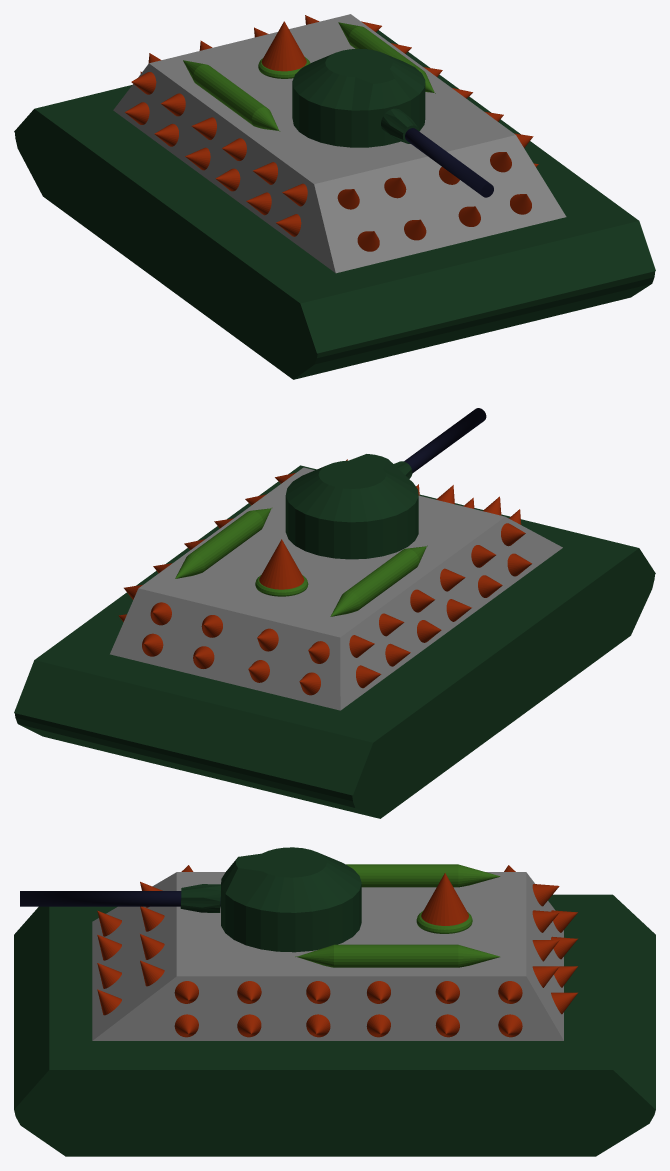
File: tank1.fbx
3 views of the same model, one above another, from view 1: azimuth 30°, elevation 25°; view 2: azimuth 150°, elevation 25°; view 3: azimuth 270°, elevation 25° (orthographic). The views are drawn at different scales.
Visible parts, largest first — view 1: Cube.001, Cube.002, Cube.003, Cylinder, Cube.000, Cube.004, Cylinder.001, Canon, Cone, Cylinder.002, Cube.005; view 2: Cube.001, Cube.002, Cube.003, Cylinder, Cube.000, Cube.016, Cylinder.001, Cylinder.002, Canon, Cone, Cube.005, Cube.004; view 3: Cube.001, Cube.002, Cube.003, Cylinder, Cube.005, Cylinder.002, Cylinder.001, Cube.016, Cube.004, Canon, Cone, Torus.
Boxes of the visible parts, box(x1,y1,x2,y2) form: Cube.001: box(14, 30, 655, 353); Cube.002: box(113, 14, 566, 273); Cube.003: box(14, 132, 655, 379); Cylinder: box(292, 48, 425, 147); Cube.000: box(125, 72, 307, 236); Cube.004: box(337, 152, 531, 251); Cylinder.001: box(183, 60, 280, 131); Canon: box(405, 128, 493, 197); Cone: box(261, 21, 306, 71); Cylinder.002: box(338, 22, 435, 93); Cube.005: box(361, 21, 538, 167); Cube.001: box(14, 465, 655, 795); Cube.002: box(110, 467, 562, 710); Cube.003: box(14, 574, 654, 818); Cylinder: box(285, 454, 418, 559); Cube.000: box(349, 523, 531, 688); Cube.016: box(142, 602, 329, 695); Cylinder.001: box(330, 545, 427, 616); Cylinder.002: box(175, 507, 272, 578); Canon: box(404, 408, 486, 473); Cone: box(259, 539, 304, 589); Cube.005: box(118, 473, 295, 621); Cube.004: box(346, 459, 521, 524); Cube.001: box(14, 894, 655, 1109); Cube.002: box(92, 872, 563, 1040); Cube.003: box(14, 1110, 655, 1156); Cylinder: box(180, 847, 361, 952); Cube.005: box(174, 981, 522, 1037); Cylinder.002: box(295, 944, 499, 967); Cylinder.001: box(346, 864, 500, 887); Cube.016: box(532, 884, 577, 1014); Cube.004: box(97, 881, 164, 1015); Canon: box(20, 891, 220, 906); Cone: box(421, 873, 468, 925); Torus: box(416, 911, 472, 933).
Size of the model in its own units: 294 by 163 by 455.
